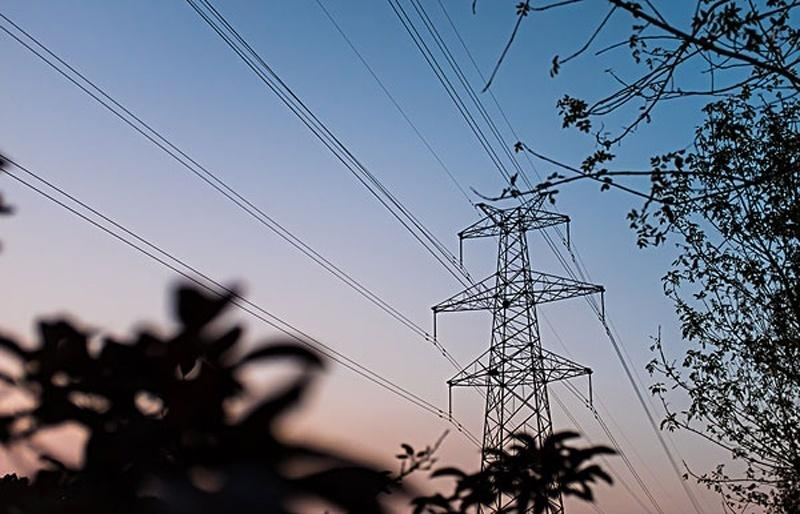power_tower: (423, 184, 601, 491)
